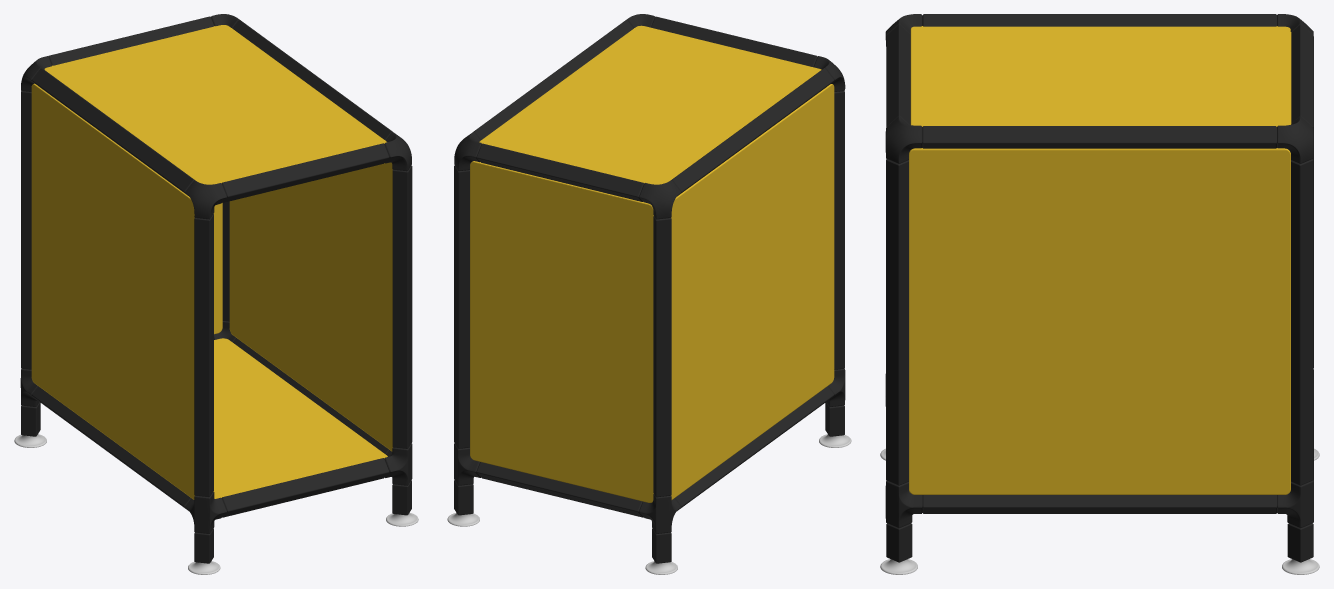
3 views of the same model, side by side, from view 1: azimuth 30°, elevation 25°; view 2: azimuth 150°, elevation 25°; view 3: azimuth 270°, elevation 25° (orthographic). The views are drawn at different scales.
Visible parts, largest first — view 1: 229x374x374; view 2: 229x374x374; view 3: 229x374x374.
Part boxes in pixels (x1,y1,x2,y2): 229x374x374: (14, 14, 418, 574); 229x374x374: (447, 14, 851, 574); 229x374x374: (880, 14, 1319, 574).
Size of the model in its own units: 0.3189 by 0.5133 by 0.4632.
